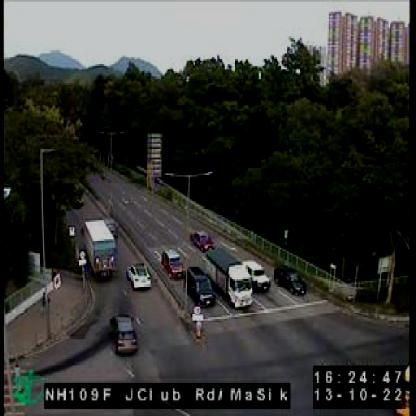Car: (187, 266, 216, 307), (112, 312, 139, 352), (277, 263, 308, 294), (244, 258, 272, 290), (127, 262, 153, 291), (161, 249, 185, 279), (191, 229, 212, 250)
Truck: (211, 244, 253, 308), (86, 218, 116, 279)
